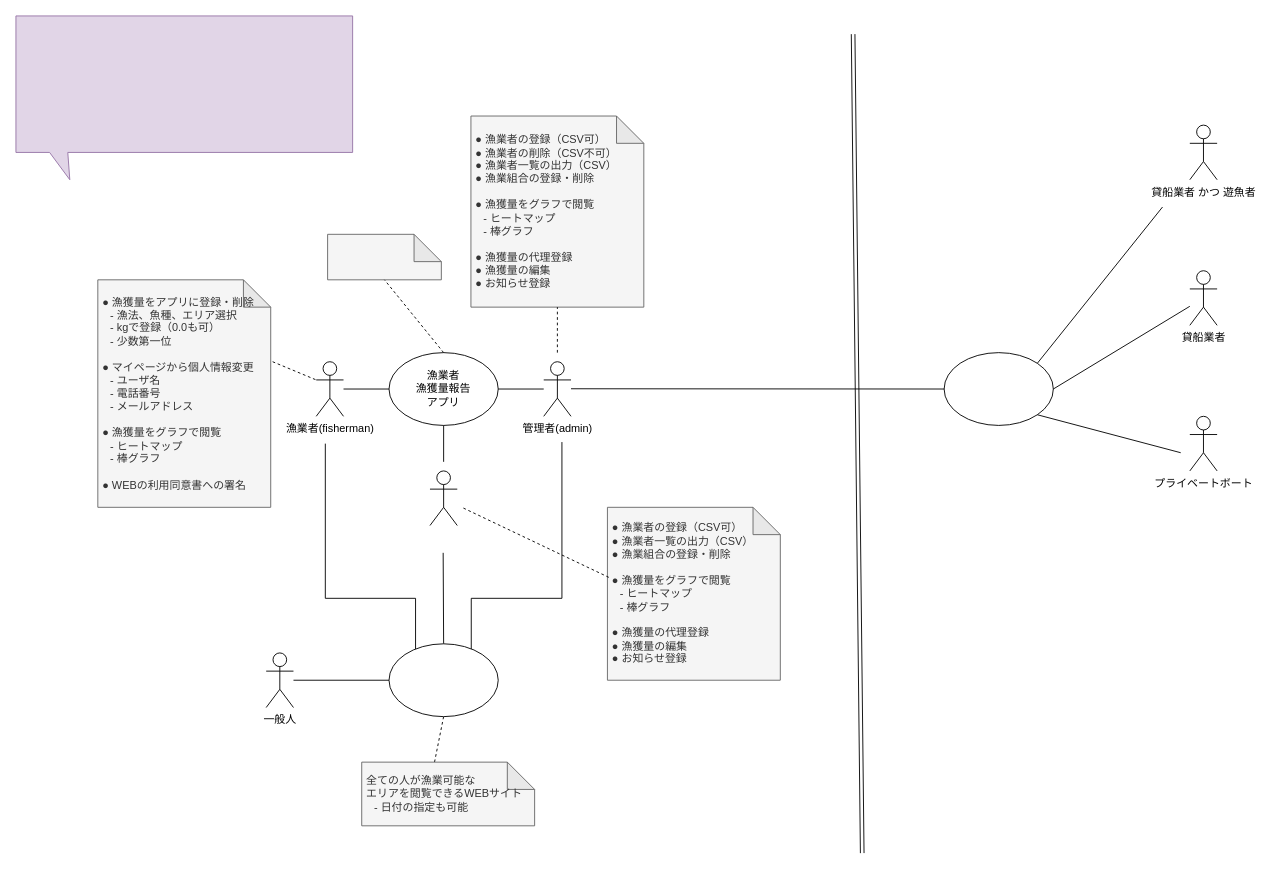
Image size: 1271x870. Some labels were removed from this diagram. The box of each missing label's shape, as (x1, y1, x2, y2) in pixels:
WEBアプリ: (327, 233, 441, 280)
コンテキスト図 開発する対象のシステムと、関わる人や他のシステムを整理した図 どこまでを今回の開発範囲にするのか 連携するシステムや利用者 を明確にする。: (15, 15, 353, 180)
一般向け 漁業可能エリア 閲覧サイト: (388, 643, 498, 717)
漁業組合(union): (429, 470, 457, 526)
遊魚者 漁獲量報告 アプリ: (943, 352, 1053, 425)
